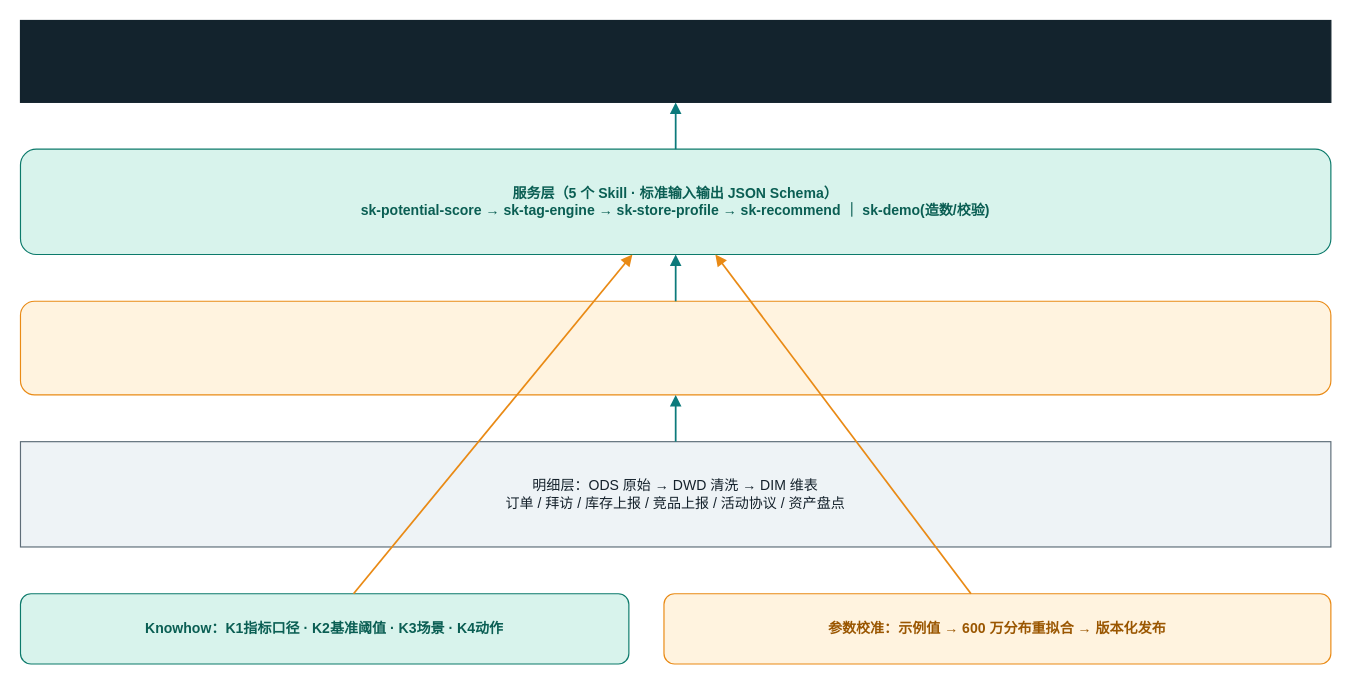
Image size: 1351x684. Some labels were removed from this diagram. The shapes that lost their labels are listed below. From the top down, each one's centre as x and y in pixels, then its label:
At pixel 675 60: "应用层：门店画像 v2 · 标签库管理后台 v2".
At pixel 675 347: "汇总层：ads 宽表（企业-门店滚动指标） 规模/活跃/渗透/库存/竞争/资源".
